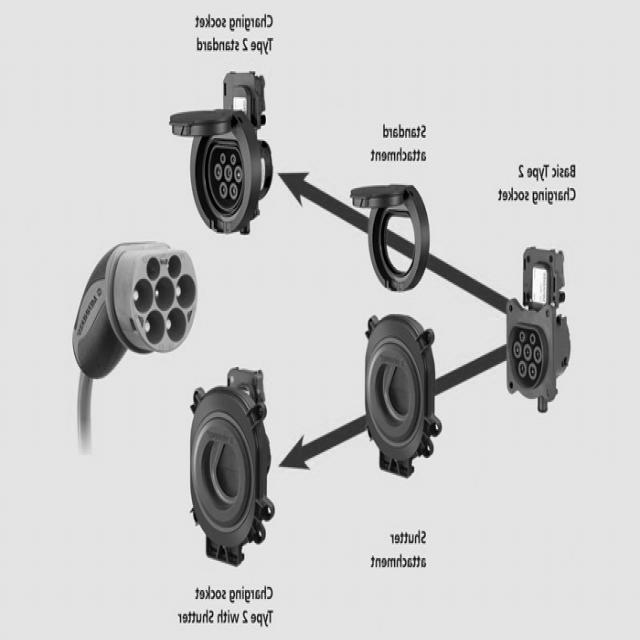Type 2: (84, 234, 221, 357), (172, 119, 267, 241)
